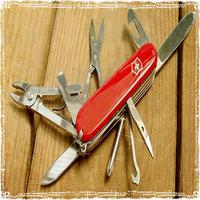knife: (35, 2, 200, 189)
